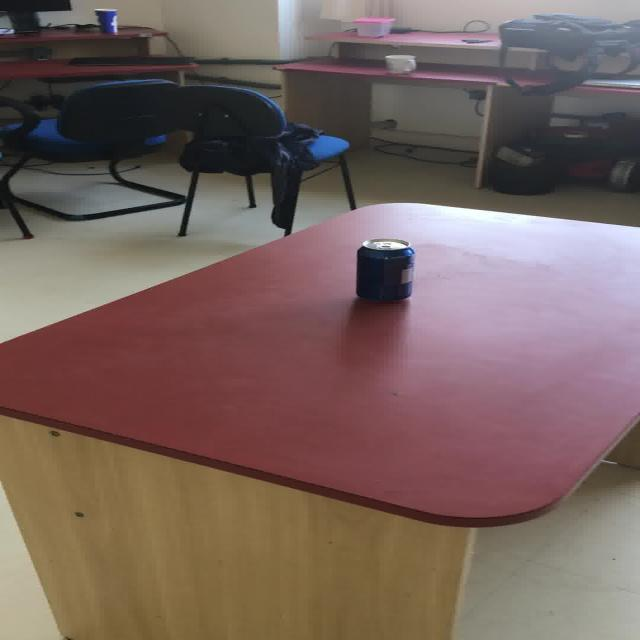tonic: (354, 237, 414, 301), (93, 8, 118, 33)
